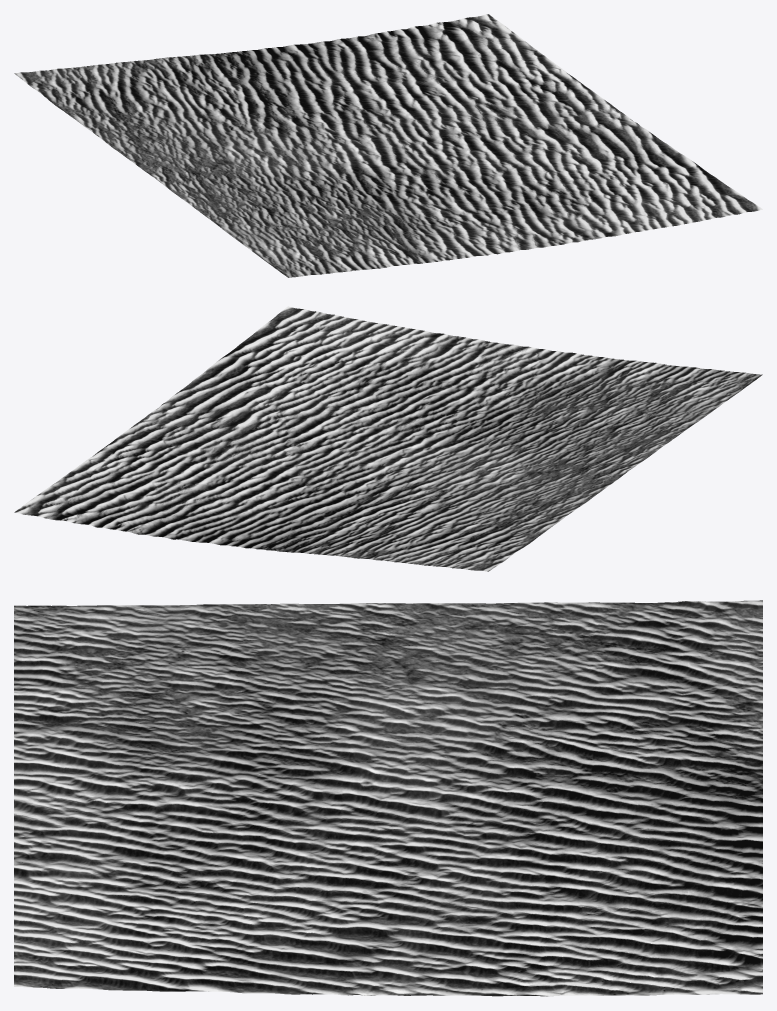
File: terrain.glb
3 views of the same model, one above another, from view 1: azimuth 30°, elevation 25°; view 2: azimuth 150°, elevation 25°; view 3: azimuth 270°, elevation 25° (orthographic). The views are drawn at different scales.
Parts seen in each view (by area): view 1: JZ01_Scientific_Terrain; view 2: JZ01_Scientific_Terrain; view 3: JZ01_Scientific_Terrain.
Part boxes in pixels (x1,y1,x2,y2): JZ01_Scientific_Terrain: [14, 14, 762, 277]; JZ01_Scientific_Terrain: [14, 306, 762, 571]; JZ01_Scientific_Terrain: [14, 600, 762, 996].
Bounding box in the file's own units: 499 × 58.42 × 499.
Materials: 1 (1 with a texture image).
